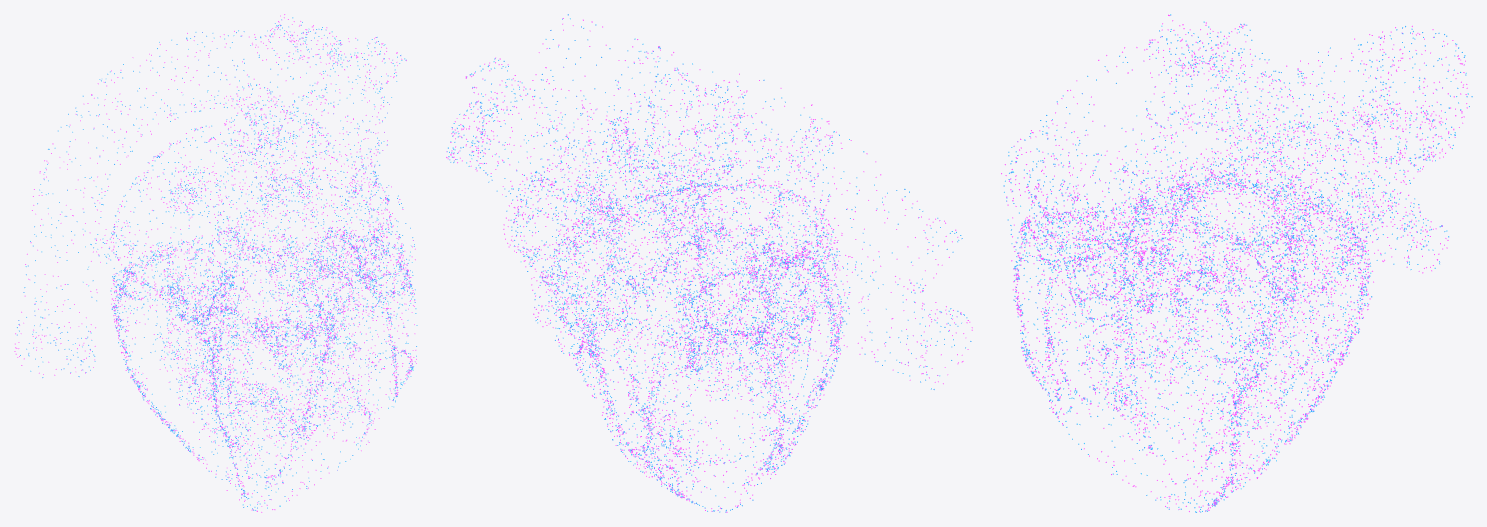
Rendered from heart.glb.
3 views of the same model, side by side, from view 1: azimuth 30°, elevation 25°; view 2: azimuth 150°, elevation 25°; view 3: azimuth 270°, elevation 25° (orthographic). The views are drawn at different scales.
Parts seen in each view (by area): view 1: Heart_2, Heart_1; view 2: Heart_1, Heart_2; view 3: Heart_1, Heart_2.
Boxes of the visible parts, box(x1,y1,x2,y2) form: Heart_2: box(17, 17, 417, 510); Heart_1: box(14, 14, 416, 512); Heart_1: box(446, 18, 972, 512); Heart_2: box(447, 14, 971, 512); Heart_1: box(1001, 14, 1467, 511); Heart_2: box(1003, 14, 1472, 512).
Size of the model in its own units: 1.82 by 1.78 by 1.47.
